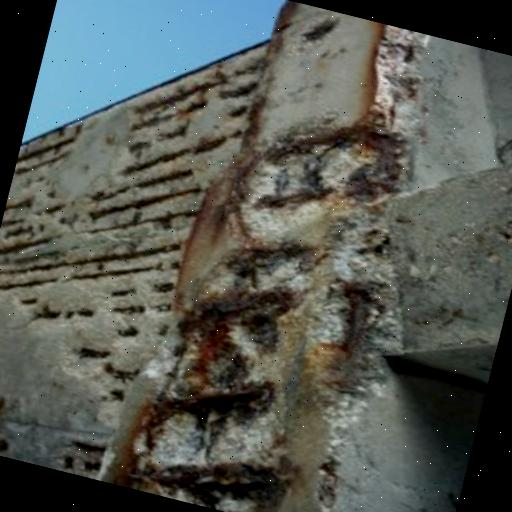spalling: (0, 1, 416, 512)
